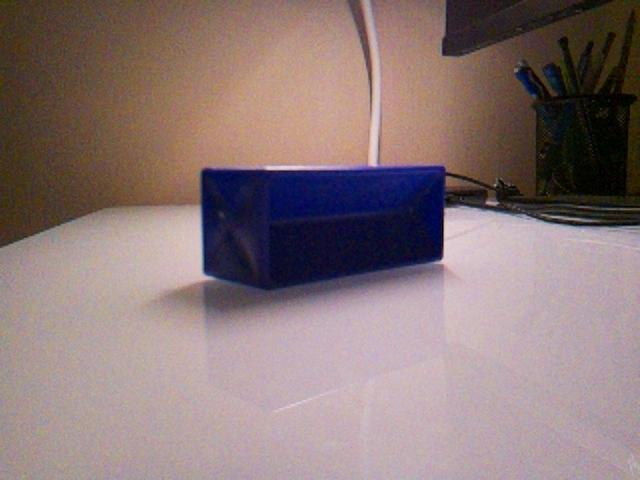blue: (199, 163, 448, 291)
